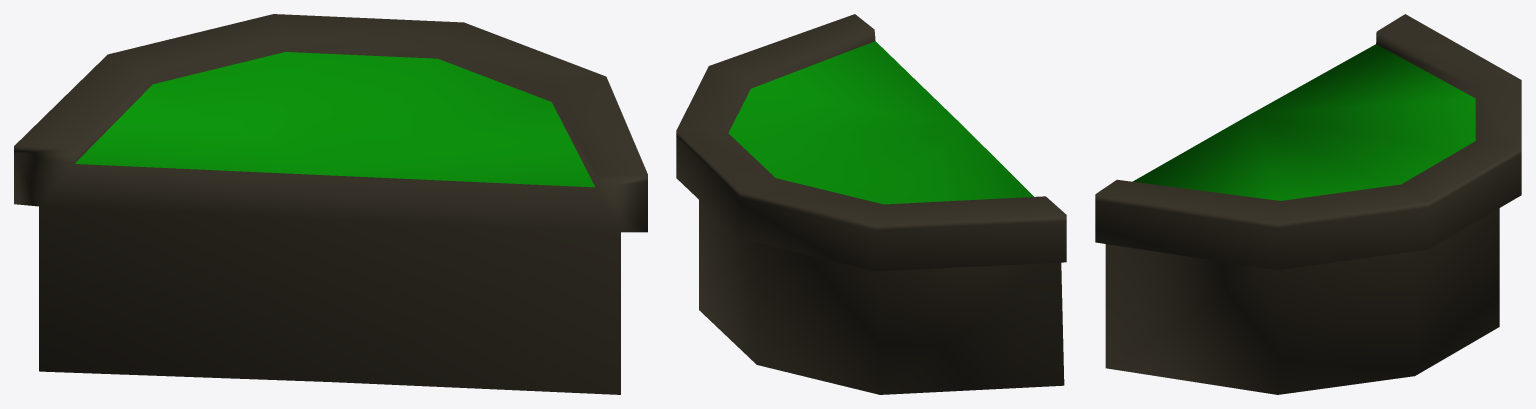
File: Casino Table.fbx
3 renders of one model, left to right at view 1: azimuth 30°, elevation 25°; view 2: azimuth 150°, elevation 25°; view 3: azimuth 270°, elevation 25°, orthographic. The views are drawn at different scales.
Visible parts, largest first — view 1: pCylinder1; view 2: pCylinder1; view 3: pCylinder1.
Part boxes in pixels (<box>): pCylinder1: <box>14,14,647,394</box>; pCylinder1: <box>676,14,1066,394</box>; pCylinder1: <box>1095,14,1521,394</box>.
Bounding box in the file's own units: 9.22 × 3.78 × 7.98.
